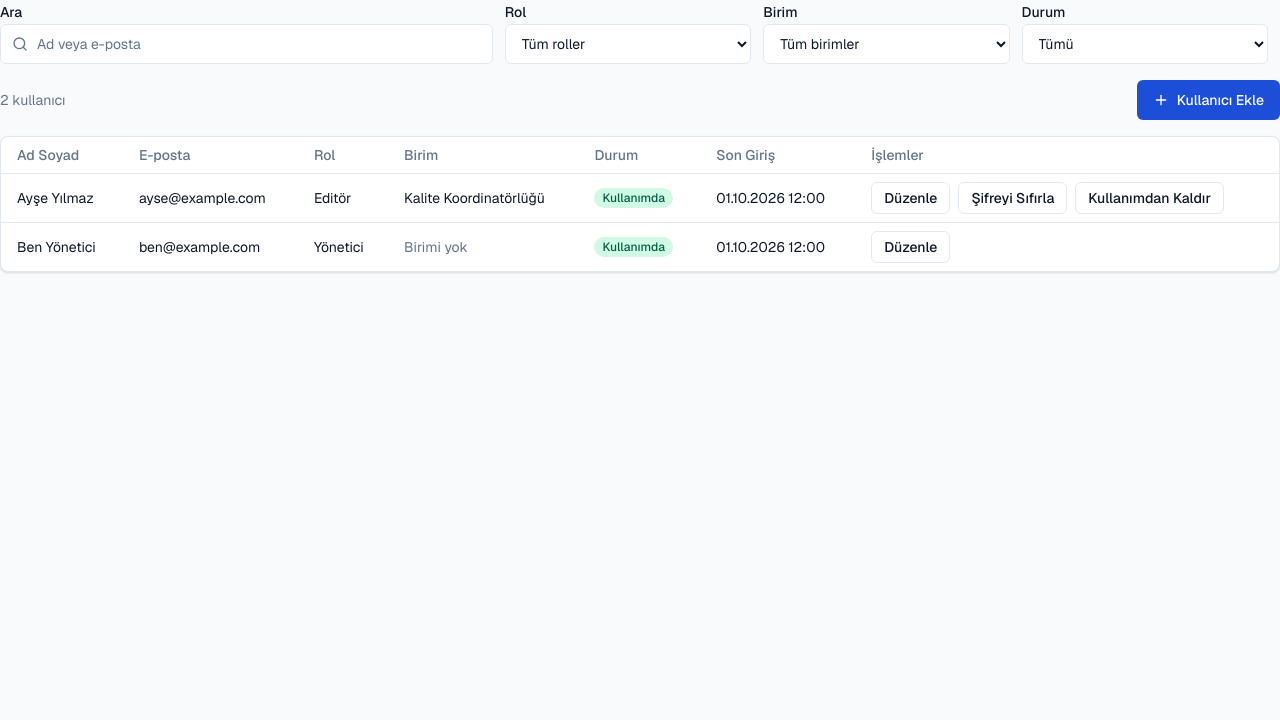
Test: UserAdmin forms › shows the reason the API gives in Turkish and keeps the form open
Click the button "Kullanıcı Ekle".
click(1208, 100)  # box [1137,80,1279,120]
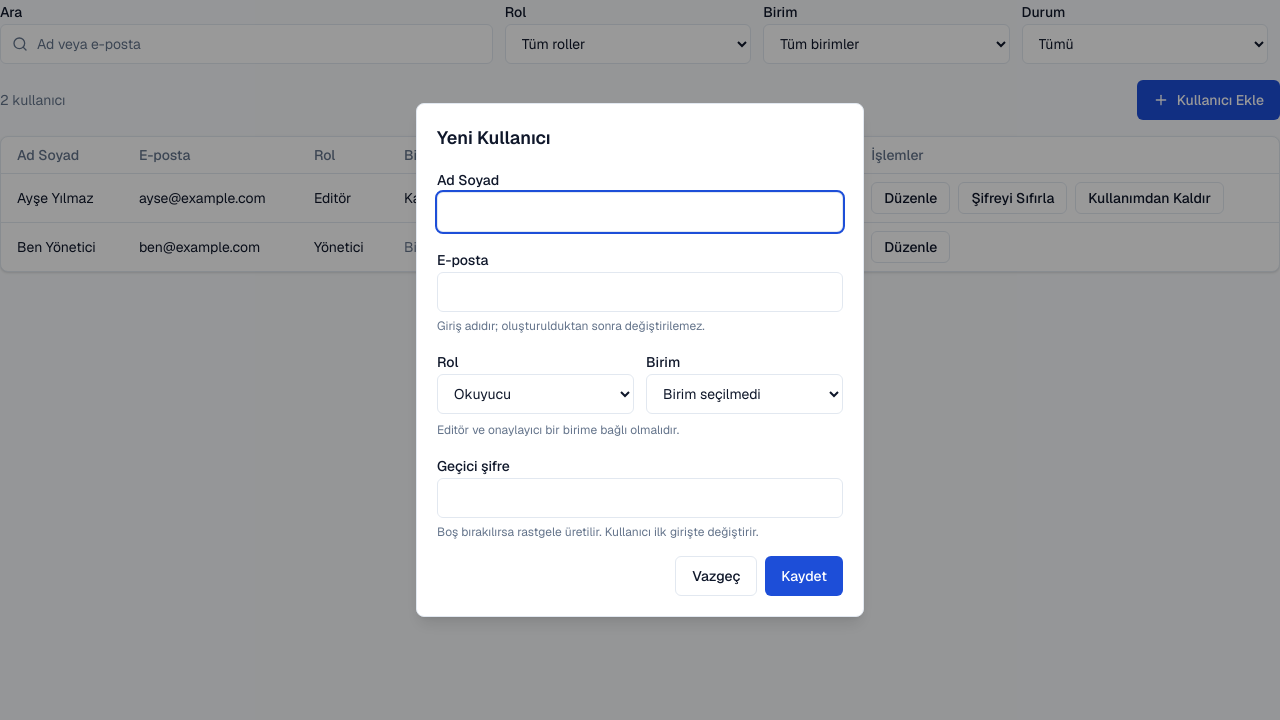
Type "Yeni Kişi" into the field labelled "Ad Soyad".
click(640, 212); type("Yeni Kişi")  # box [437,192,843,232]
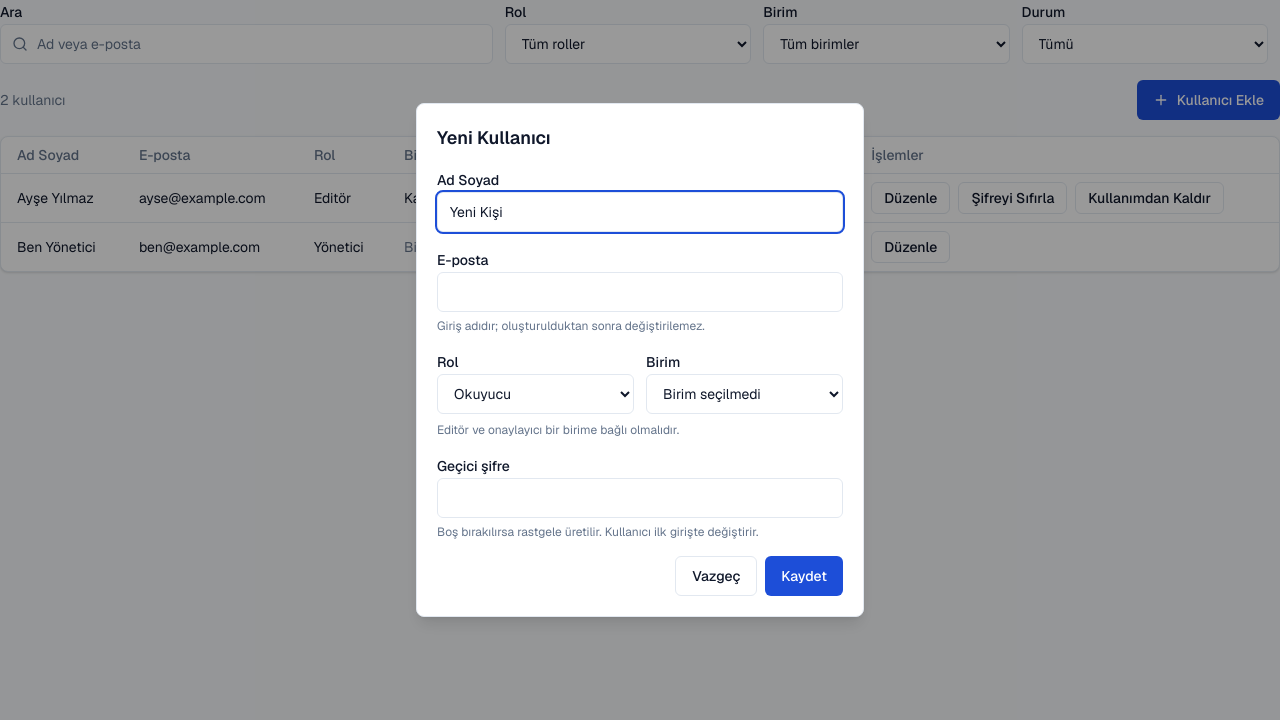
Type "yeni@example.com" into the field labelled "E-posta".
click(640, 292); type("yeni@example.com")  # box [437,272,843,312]
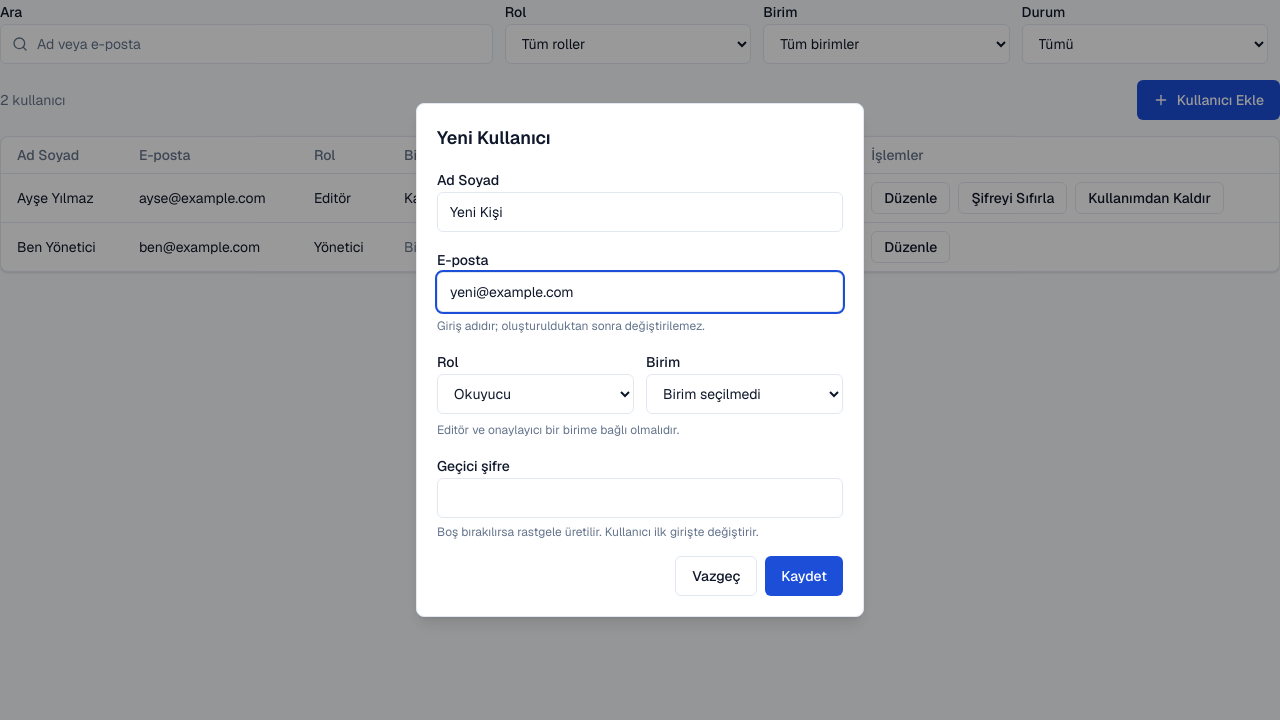
Click the button "Kaydet".
click(804, 576)  # box [765,556,843,596]
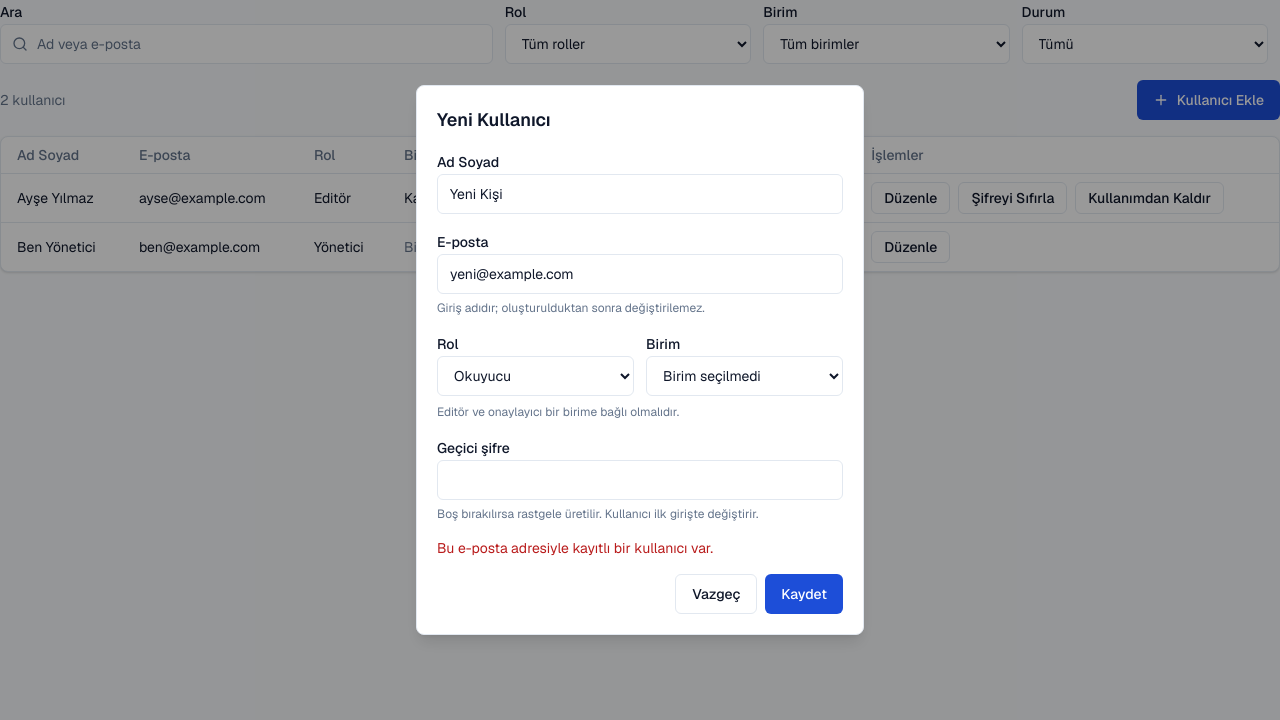
Result: the message reads "Bu e-posta adresiyle kayıtlı bir kullanıcı var." at [437,539,713,557]
